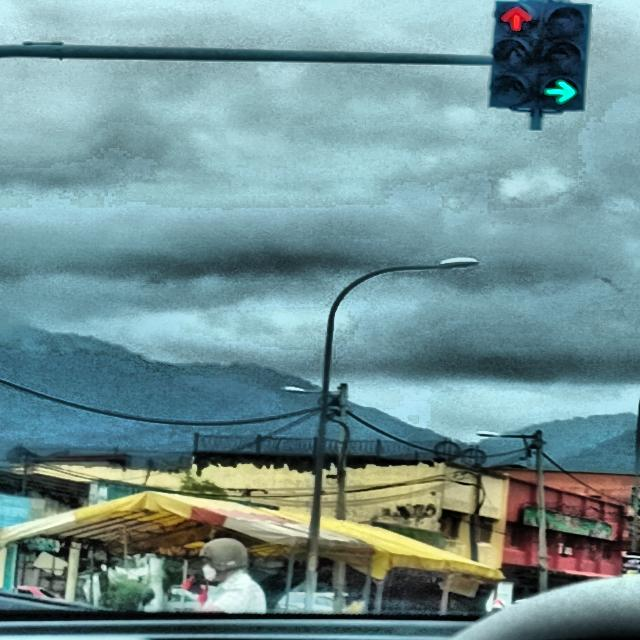green: (540, 4, 591, 109)
red: (487, 1, 544, 107)
